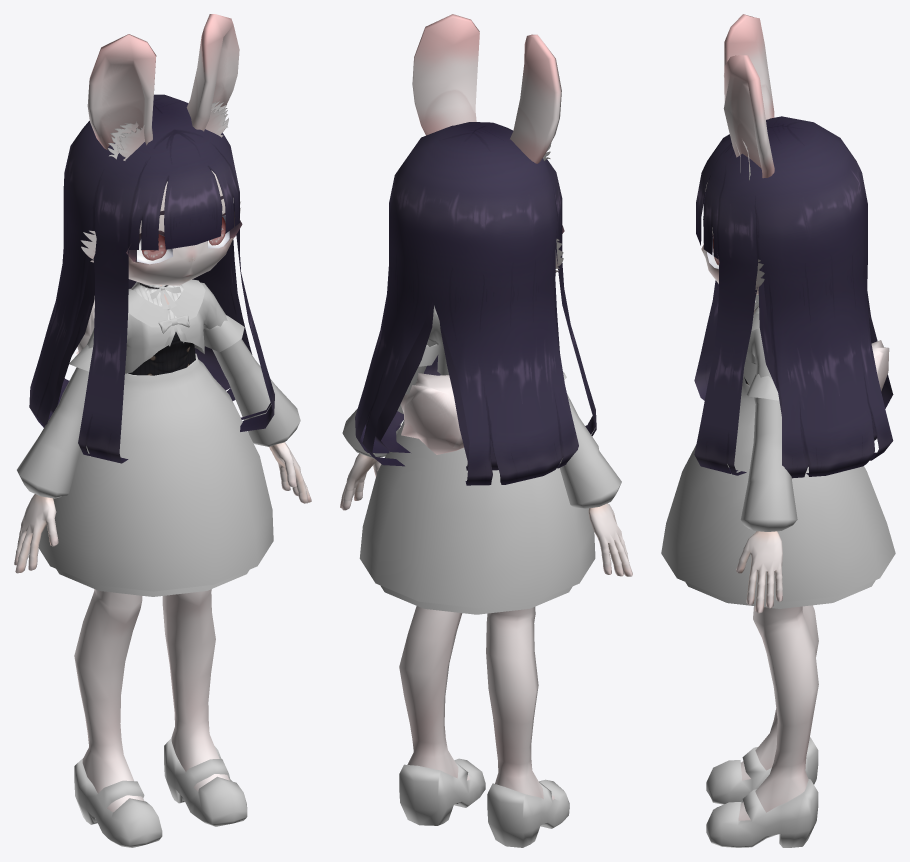
File: bunny.fbx
The picture shows the model from 3 angles, left to right: view 1: azimuth 30°, elevation 25°; view 2: azimuth 150°, elevation 25°; view 3: azimuth 270°, elevation 25°; orthographic projection. The views are drawn at different scales.
Parts seen in each view (by area): view 1: pCube6, pPlane4, pCube8; view 2: pCube8, pCube6, pPlane4; view 3: pCube8, pCube6, pPlane4.
Boxes of the visible parts, box(x1,y1,x2,y2) form: pCube6: box(17, 279, 300, 847); pPlane4: box(14, 14, 311, 812); pCube8: box(29, 94, 274, 463); pCube8: box(355, 122, 596, 485); pCube6: box(342, 305, 621, 847); pPlane4: box(340, 14, 632, 799); pCube8: box(694, 116, 893, 478); pCube6: box(661, 294, 895, 847); pPlane4: box(701, 14, 889, 820).
Bounding box in the file's own units: 3.97 × 10.26 × 2.78.
